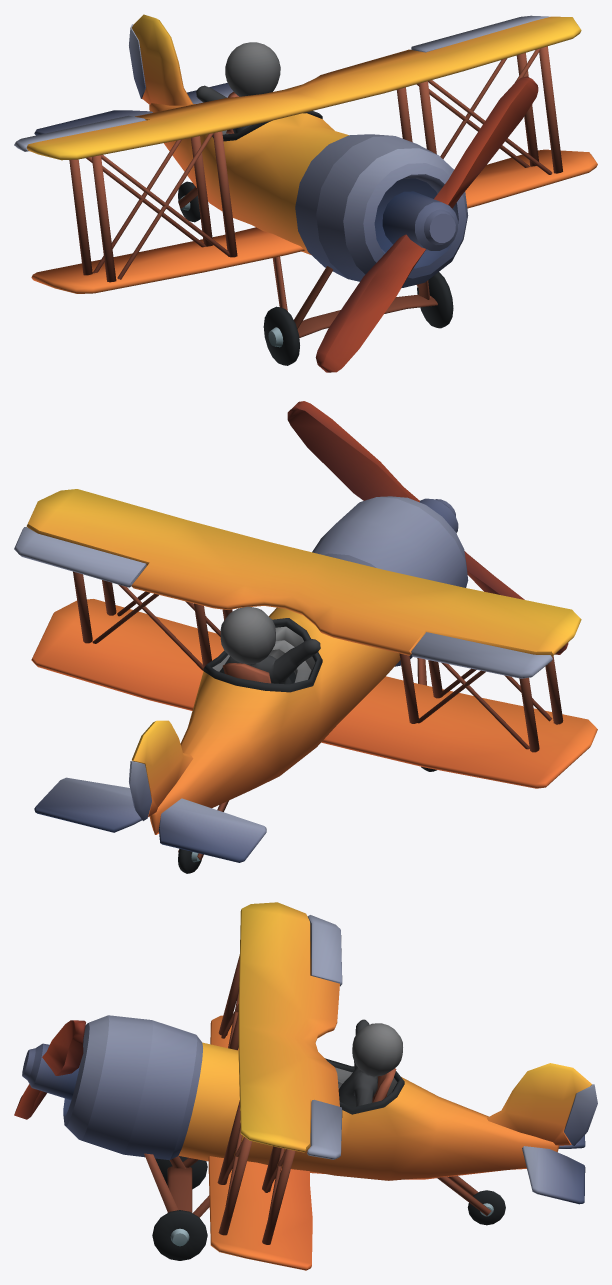
3 renders of one model, top to bottom at view 1: azimuth 30°, elevation 25°; view 2: azimuth 150°, elevation 25°; view 3: azimuth 270°, elevation 25°, orthographic. The views are drawn at different scales.
Parts seen in each view (by area): view 1: PlaneBody, PlaneEngine, Ref-Stickman; view 2: PlaneBody, PlaneEngine, Ref-Stickman; view 3: PlaneBody, PlaneEngine, Ref-Stickman.
Part boxes in pixels (box(x1,y1,x2,y2)): PlaneBody: box(14, 14, 597, 365); PlaneEngine: box(315, 76, 538, 372); Ref-Stickman: box(196, 42, 280, 133); PlaneBody: box(14, 489, 597, 873); PlaneEngine: box(287, 401, 568, 654); Ref-Stickman: box(219, 606, 320, 684); PlaneBody: box(63, 902, 597, 1270); PlaneEngine: box(14, 1020, 85, 1119); Ref-Stickman: box(338, 1019, 402, 1107).
Size of the model in its own units: 116 by 57.67 by 119.
Materials: 1 (1 with a texture image).
